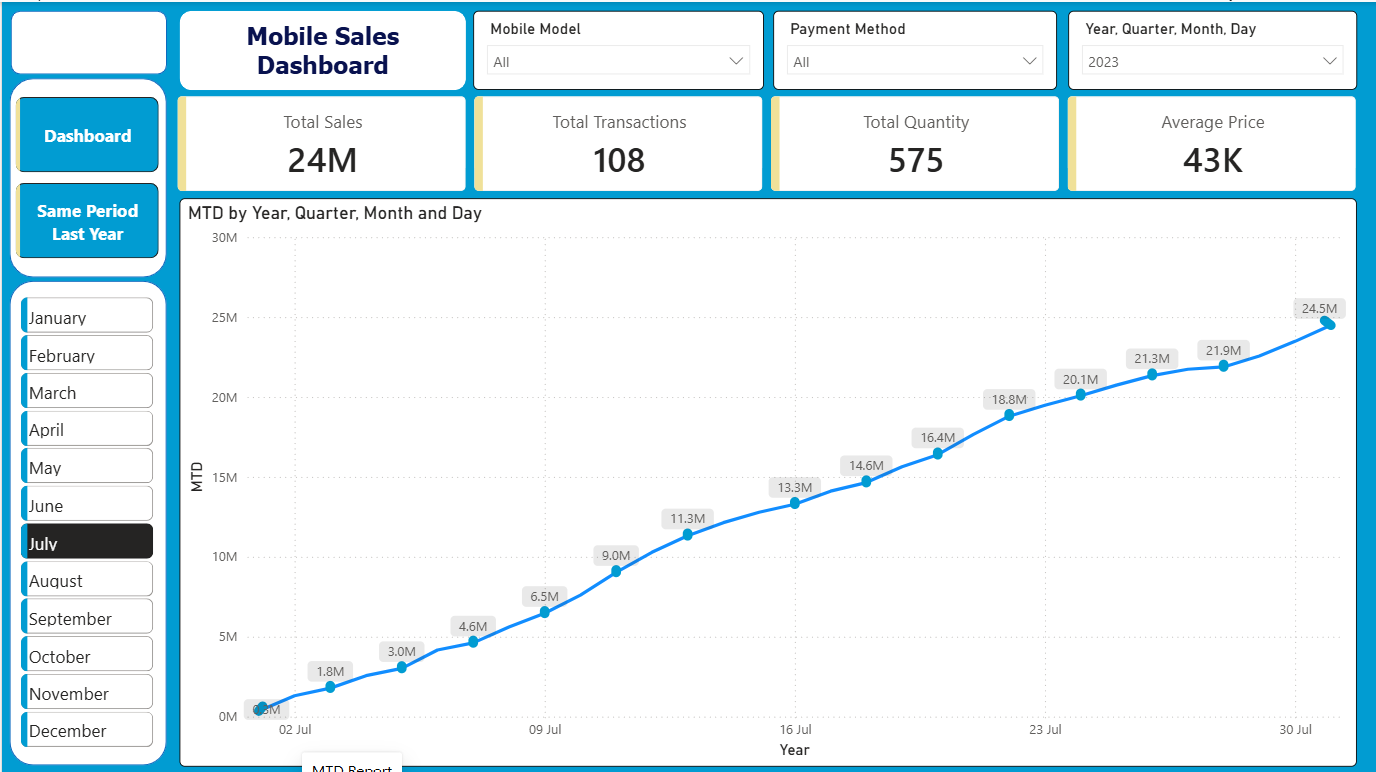

This screenshot's page, from the dashboard's own definition file:
{"tool":"powerbi","page":{"name":"MTD Report","canvas":[1280,720],"ordinal":1},"visuals":[{"type":"shape","box":[8.1,8.1,145.3,59.3],"z":0},{"type":"shape","box":[7.3,70.7,146.3,185.4],"z":1000},{"type":"cardVisual","fields":{"Data":["Sales_Data.Total Sales","Sales_Data.Total Transactions","Sales_Data.Total Quantity","Sales_Data.Average Price"]},"box":[146.5,70.4,1133.8,122.5],"z":2000},{"type":"shape","title":"Mobile Sales Dashboard","box":[165.3,8,266.7,74],"z":3000},{"type":"slicer","fields":{"Values":["Sales_Data.Mobile Model"]},"box":[438,8.7,270,73.3],"z":4000},{"type":"slicer","fields":{"Values":["Sales_Data.Payment Method"]},"box":[718,8.7,264,73.3],"z":5000},{"type":"slicer","fields":{"Values":["Custom_Calendar.Date.Variation.Date Hierarchy.Year","Custom_Calendar.Date.Variation.Date Hierarchy.Quarter","Custom_Calendar.Date.Variation.Date Hierarchy.Month","Custom_Calendar.Date.Variation.Date Hierarchy.Day"]},"box":[991.5,8.5,269,73.2],"z":6000},{"type":"lineChart","fields":{"Y":["Sales_Data.MTD"],"Category":["Custom_Calendar.Date.Variation.Date Hierarchy.Year","Custom_Calendar.Date.Variation.Date Hierarchy.Quarter","Custom_Calendar.Date.Variation.Date Hierarchy.Month","Custom_Calendar.Date.Variation.Date Hierarchy.Day"]},"box":[165,182,1095,529],"z":7000},{"type":"shape","box":[7.5,259.8,146.3,450.9],"z":8000},{"type":"advancedSlicerVisual","fields":{"Values":["Custom_Calendar.Date.Variation.Date Hierarchy.Month"]},"box":[13.3,269.3,133.3,433.3],"z":9000},{"type":"pageNavigator","box":[13.3,88.3,133.3,151.7],"z":9001}]}

Visuals, with their boxes in screenshot pixels (x1, y1, x2, y2), scaled from the page's 1280x720 canvas onto the 1376x772 screenshot:
shape: pyautogui.locateOnScreen(9, 9, 165, 72)
shape: pyautogui.locateOnScreen(8, 76, 165, 275)
cardVisual - Sales_Data.Total Sales x Sales_Data.Total Transactions: pyautogui.locateOnScreen(157, 75, 1375, 207)
"Mobile Sales Dashboard" shape: pyautogui.locateOnScreen(178, 9, 464, 88)
slicer - Sales_Data.Mobile Model: pyautogui.locateOnScreen(471, 9, 761, 88)
slicer - Sales_Data.Payment Method: pyautogui.locateOnScreen(772, 9, 1056, 88)
slicer - Custom_Calendar.Date.Variation.Date Hierarchy.Year x Custom_Calendar.Date.Variation.Date Hierarchy.Quarter: pyautogui.locateOnScreen(1066, 9, 1355, 88)
lineChart - Sales_Data.MTD x Custom_Calendar.Date.Variation.Date Hierarchy.Year: pyautogui.locateOnScreen(177, 195, 1354, 762)
shape: pyautogui.locateOnScreen(8, 279, 165, 762)
advancedSlicerVisual - Custom_Calendar.Date.Variation.Date Hierarchy.Month: pyautogui.locateOnScreen(14, 289, 158, 753)
pageNavigator: pyautogui.locateOnScreen(14, 95, 158, 257)
